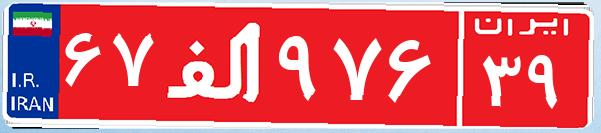3: (475, 38, 525, 113)
6: (385, 28, 445, 110), (57, 26, 110, 107)
7: (330, 28, 385, 110), (110, 28, 158, 105)
9: (273, 28, 330, 110), (525, 38, 570, 115)
الف: (158, 15, 273, 115)
